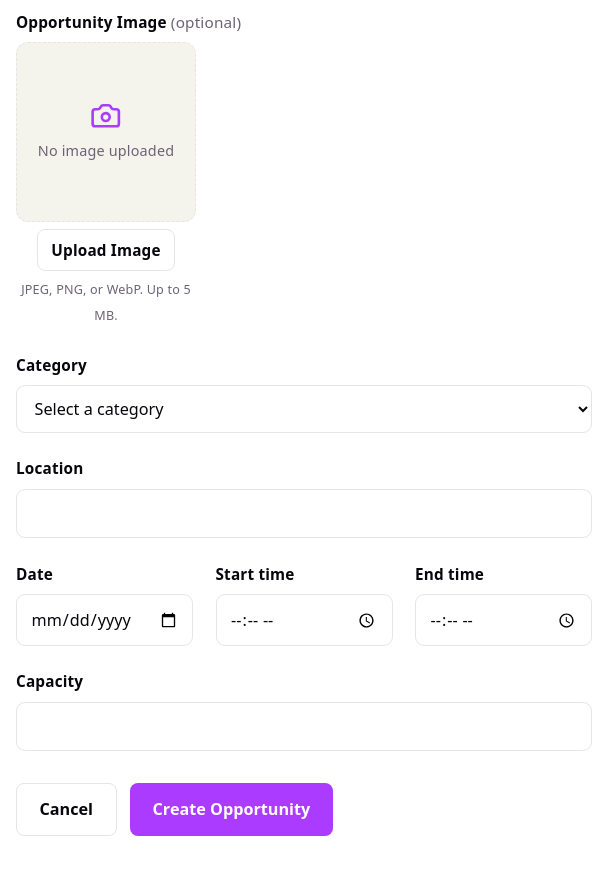
CreateOpportunityPage › shows validation feedback when submitting an empty form
This screenshot has width=609, height=890.
(page scrolled)
Click the button "Create Opportunity" at (231, 809), box [130,783,333,836]
(page scrolled)
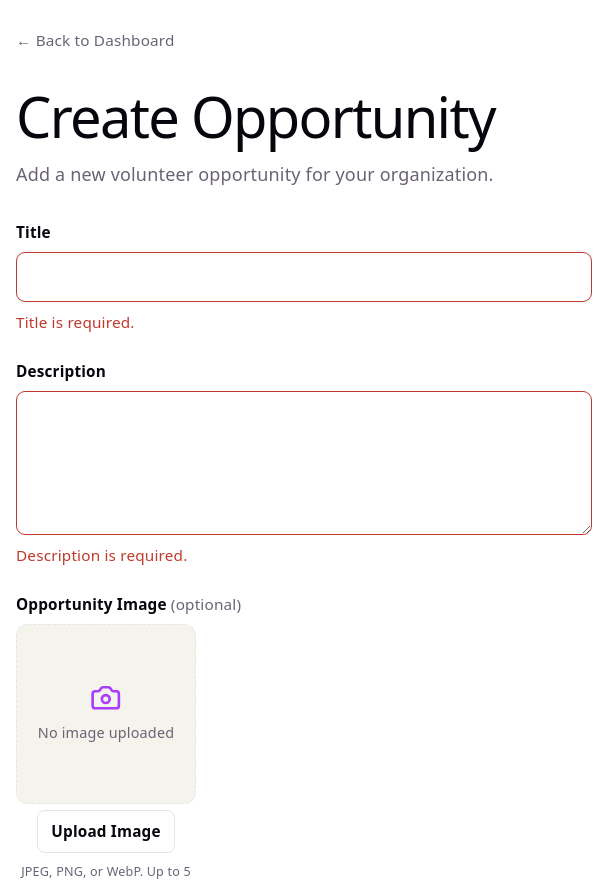
Now the text "Title is required." is shown, box [16,312,135,332]
Now the text "Description is required." is shown, box [16,545,188,565]
